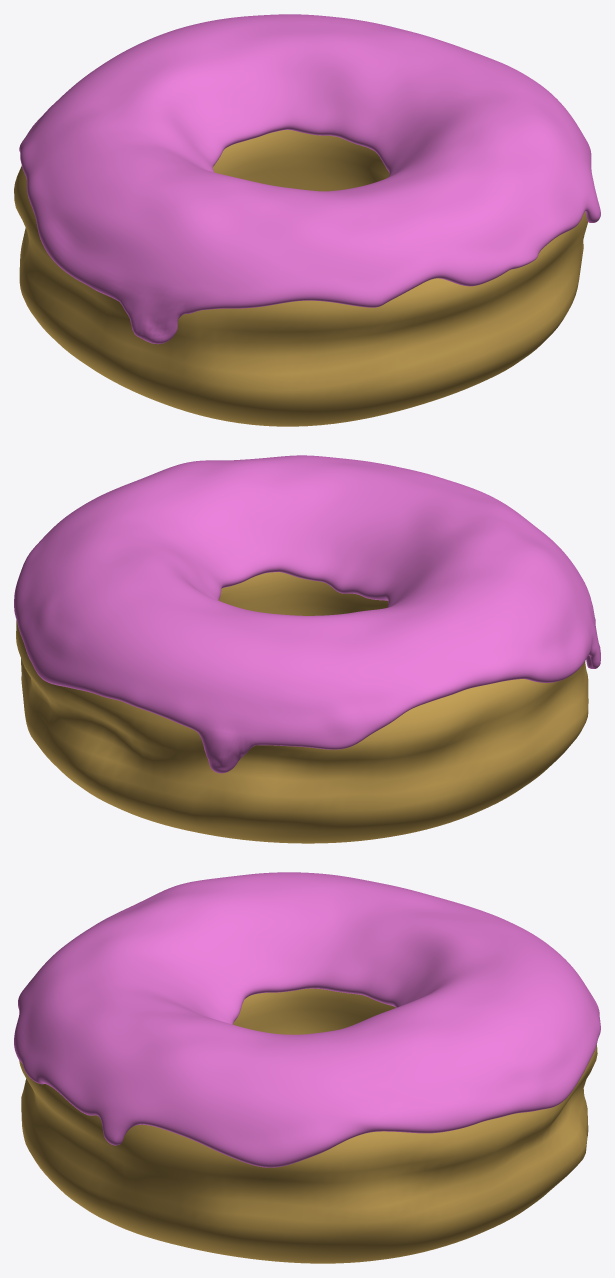
The model's file is donut - aoleu.fbx.
3 views of the same model, one above another, from view 1: azimuth 30°, elevation 25°; view 2: azimuth 150°, elevation 25°; view 3: azimuth 270°, elevation 25° (orthographic).
Parts seen in each view (by area): view 1: Torus; view 2: Torus; view 3: Torus.
Part boxes in pixels (<box>): Torus: <box>14,14,600,426</box>; Torus: <box>14,455,600,843</box>; Torus: <box>14,872,600,1263</box>.
Size of the model in its own units: 15.62 by 6.46 by 15.29.
